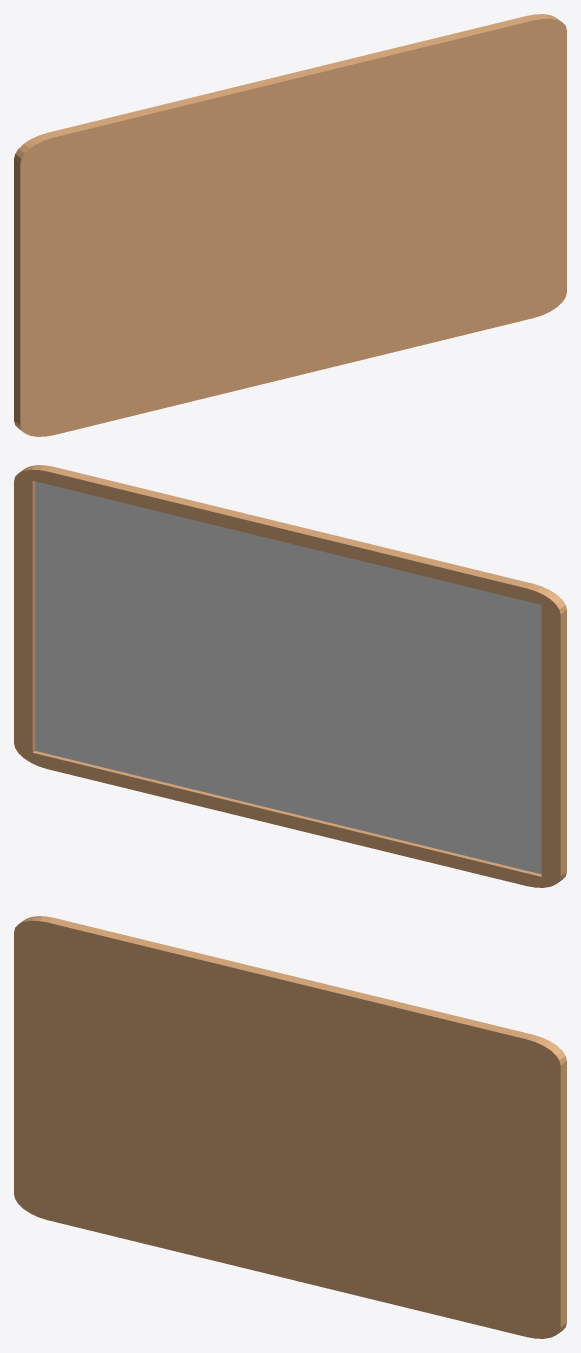
File: bulletin2.fbx
The picture shows the model from 3 angles, top to bottom: view 1: azimuth 30°, elevation 25°; view 2: azimuth 150°, elevation 25°; view 3: azimuth 330°, elevation 25°; orthographic projection.
Visible parts, largest first — view 1: Cube.017; view 2: Cube.017; view 3: Cube.017.
Part boxes in pixels (x1=…): Cube.017: x1=14, y1=14, x2=566, y2=436; Cube.017: x1=14, y1=465, x2=566, y2=887; Cube.017: x1=14, y1=916, x2=566, y2=1338.
Bounding box in the file's own units: 240 × 4.9 × 125.
